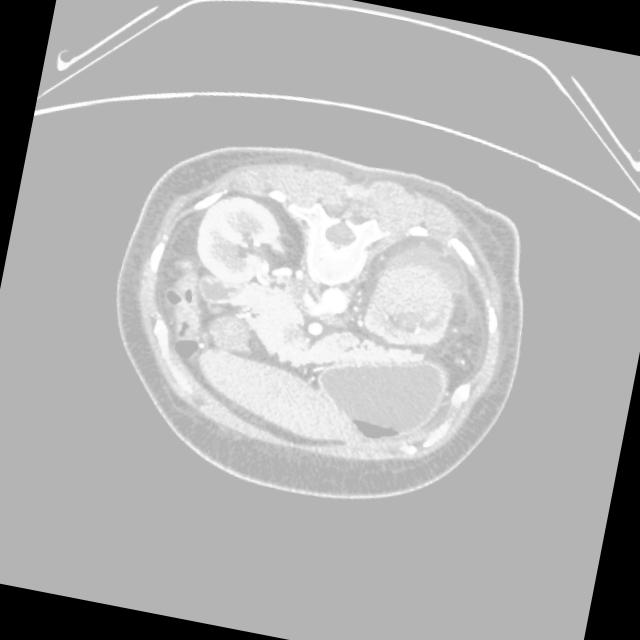TUMOR: (77, 97, 557, 490)
